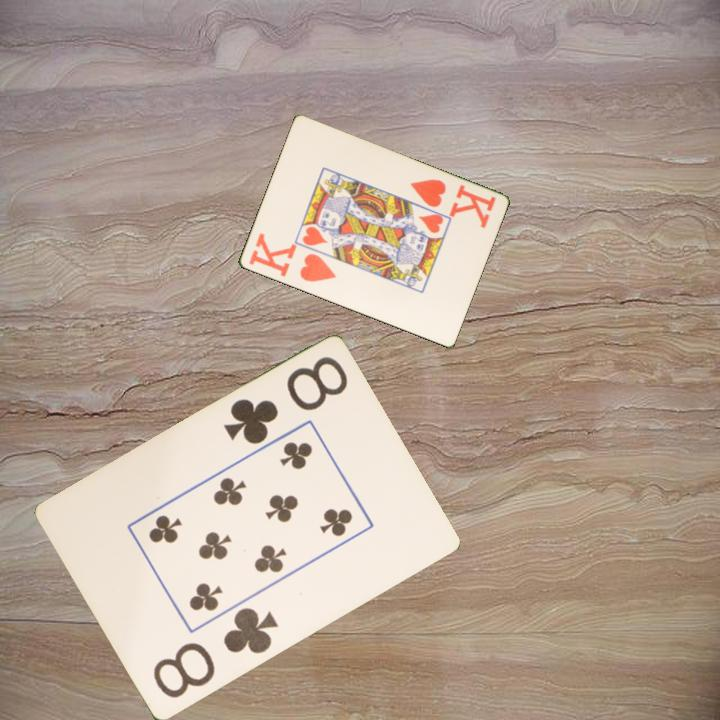8c: (149, 604, 282, 702), (219, 353, 351, 448)
Kh: (245, 230, 339, 285), (406, 175, 498, 231)
